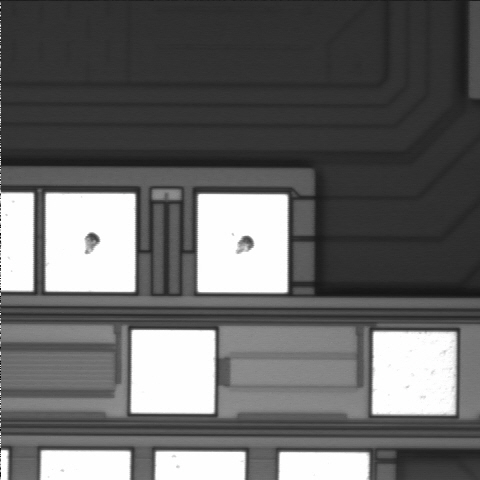pad: (198, 194, 288, 293), (46, 193, 135, 292), (131, 330, 215, 414), (372, 332, 456, 414)
